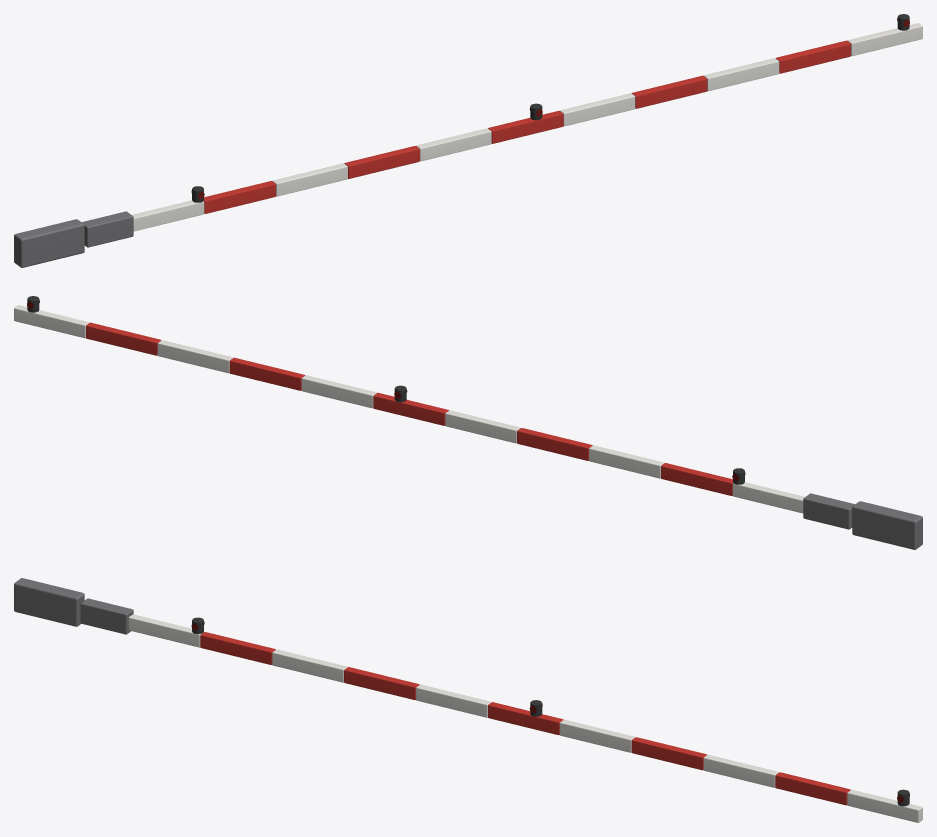
Rendered from rail.crossing.boom_7.glb.
3 views of the same model, one above another, from view 1: azimuth 30°, elevation 25°; view 2: azimuth 150°, elevation 25°; view 3: azimuth 330°, elevation 25° (orthographic).
Parts seen in each view (by area): view 1: main__paint_eee, main__paint_c33, main__galv_777; view 2: main__paint_eee, main__paint_c33, main__galv_777; view 3: main__paint_eee, main__paint_c33, main__galv_777.
Part boxes in pixels (left/top/right/bottom): main__paint_eee: left=132, top=23, right=922, bottom=231; main__paint_c33: left=203, top=40, right=850, bottom=213; main__galv_777: left=14, top=211, right=133, bottom=267; main__paint_eee: left=14, top=305, right=804, bottom=513; main__paint_c33: left=86, top=322, right=733, bottom=495; main__galv_777: left=803, top=493, right=922, bottom=549; main__paint_eee: left=128, top=614, right=922, bottom=822; main__paint_c33: left=200, top=632, right=850, bottom=805; main__galv_777: left=14, top=578, right=133, bottom=634.
Size of the model in its own units: 7.75 by 0.275 by 0.12.
